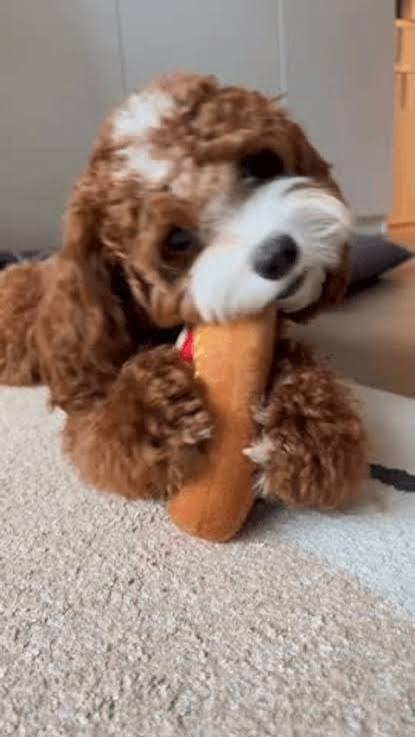puppy-dog: (0, 70, 370, 514)
